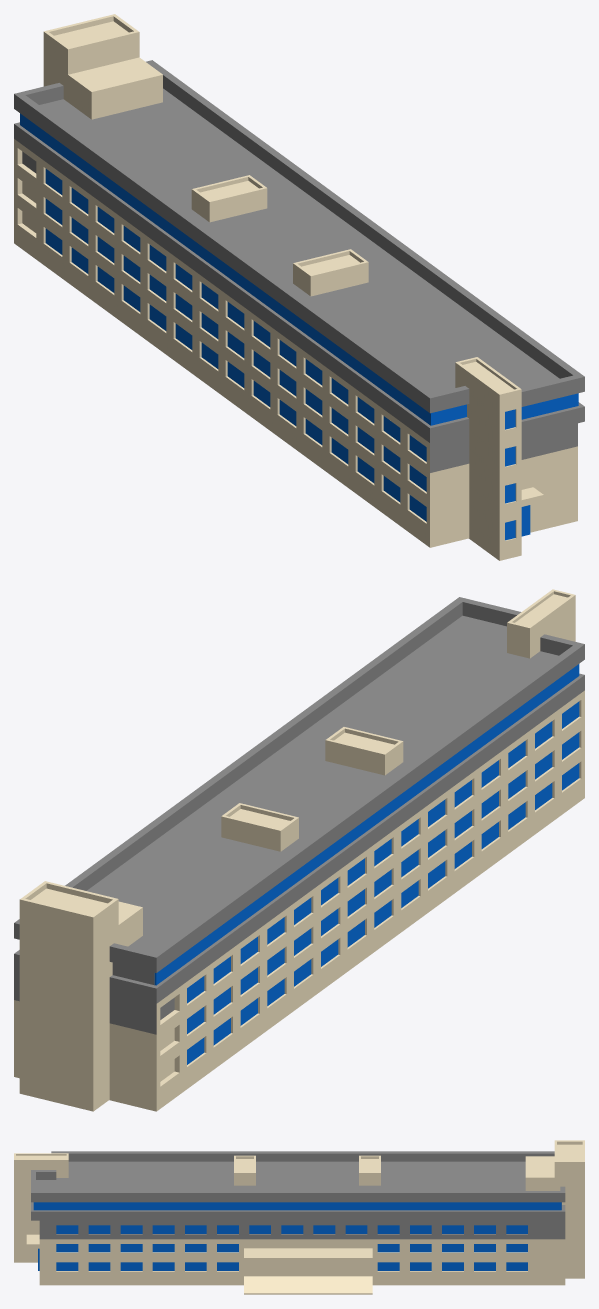
The model's file is 제1과학기술관.fbx.
The picture shows the model from 3 angles, top to bottom: view 1: azimuth 30°, elevation 25°; view 2: azimuth 150°, elevation 25°; view 3: azimuth 270°, elevation 25°; orthographic projection. The views are drawn at different scales.
Parts seen in each view (by area): view 1: 제1과학기술관, Cube_42, Cube_2, Cube_43, Cube_5, Cube_13, Cube_4, Cube_3, Cube_1; view 2: 제1과학기술관, Cube_5, Cube_42, Cube_43, Cube_2, Cube_3, Cube_4, Cube_13; view 3: 제1과학기술관, Cube_42, Cube_43, Cube_5, Cube_2, Cube_13, Cube_4, Cube_3.
Boxes of the visible parts, <box> form: 제1과학기술관: <box>14,60,584,547</box>; Cube_42: <box>45,169,426,521</box>; Cube_2: <box>455,357,521,560</box>; Cube_43: <box>20,113,578,425</box>; Cube_5: <box>43,14,139,101</box>; Cube_13: <box>67,57,162,119</box>; Cube_4: <box>191,175,267,222</box>; Cube_3: <box>293,249,368,296</box>; Cube_1: <box>505,409,515,540</box>; 제1과학기술관: <box>14,597,584,1111</box>; Cube_5: <box>19,881,118,1111</box>; Cube_42: <box>187,701,579,1064</box>; Cube_43: <box>154,664,579,985</box>; Cube_2: <box>507,589,575,658</box>; Cube_3: <box>325,727,403,775</box>; Cube_4: <box>221,803,298,851</box>; Cube_13: <box>117,901,142,946</box>; 제1과학기술관: <box>26,1151,565,1294</box>; Cube_42: <box>56,1225,527,1270</box>; Cube_43: <box>33,1202,561,1210</box>; Cube_5: <box>554,1140,584,1278</box>; Cube_2: <box>14,1153,68,1262</box>; Cube_13: <box>525,1156,555,1190</box>; Cube_4: <box>359,1155,380,1185</box>; Cube_3: <box>234,1155,255,1185</box>.
Bounding box in the file's own units: 355 × 379 × 1668.
